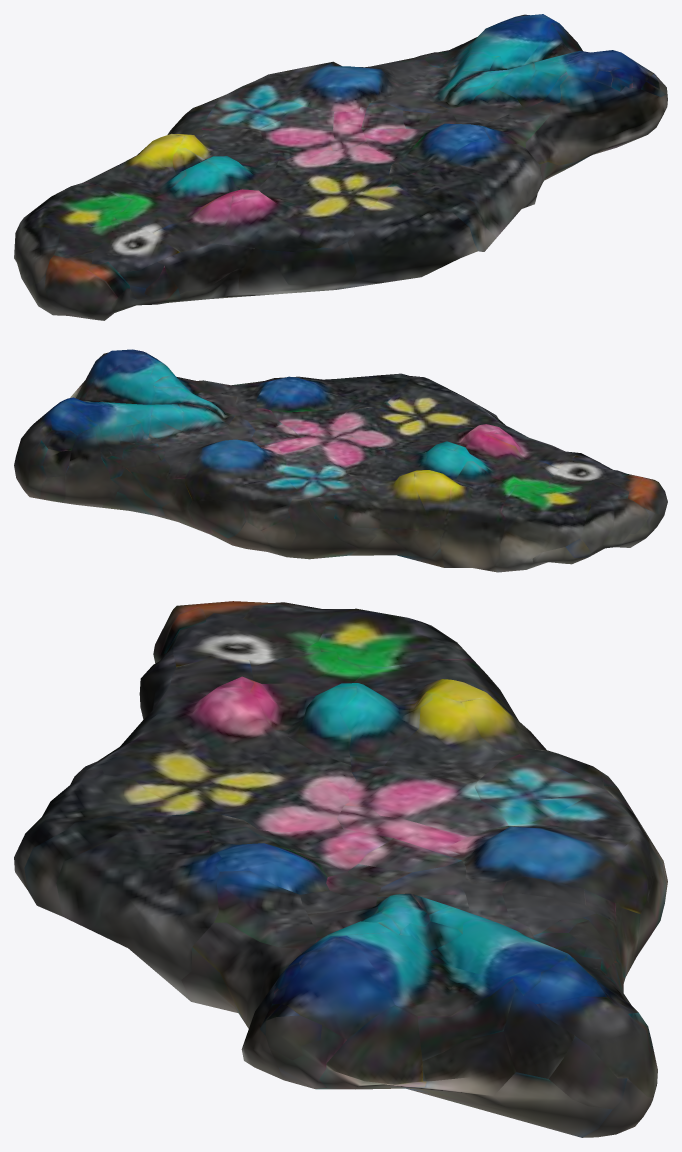
File: hall.glb
3 views of the same model, one above another, from view 1: azimuth 30°, elevation 25°; view 2: azimuth 150°, elevation 25°; view 3: azimuth 270°, elevation 25° (orthographic). The views are drawn at different scales.
Bounding box in the file's own units: 0.6597 × 0.106 × 0.3777.
1 material, 1 textured.
